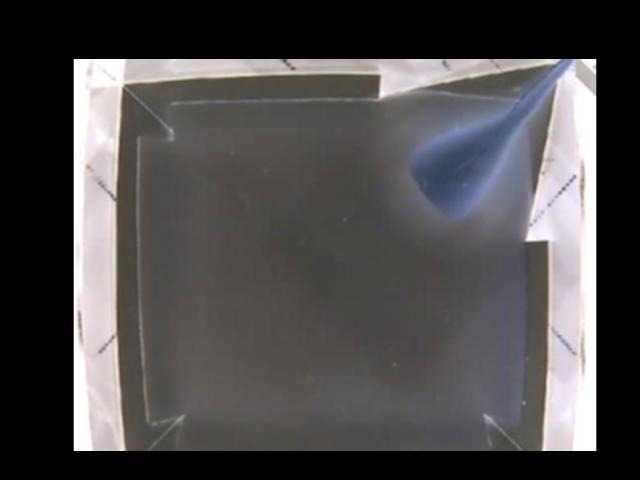Mooli: (405, 112, 518, 222)
